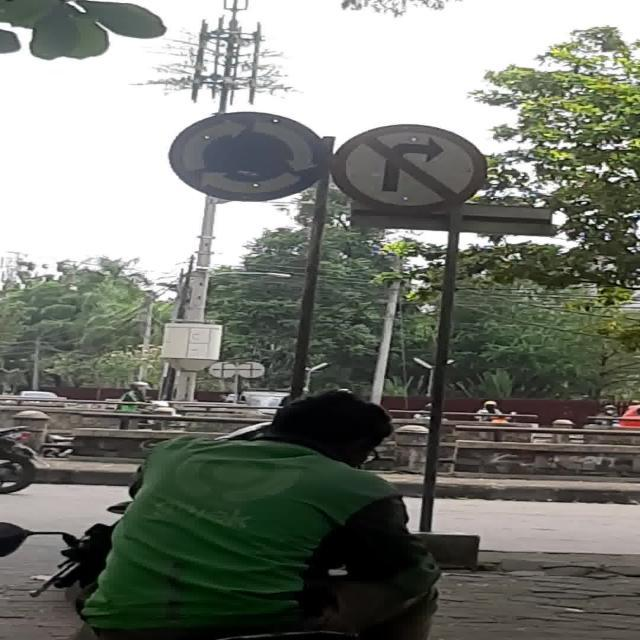Dilarang Belok Kanan: (332, 124, 486, 208)
